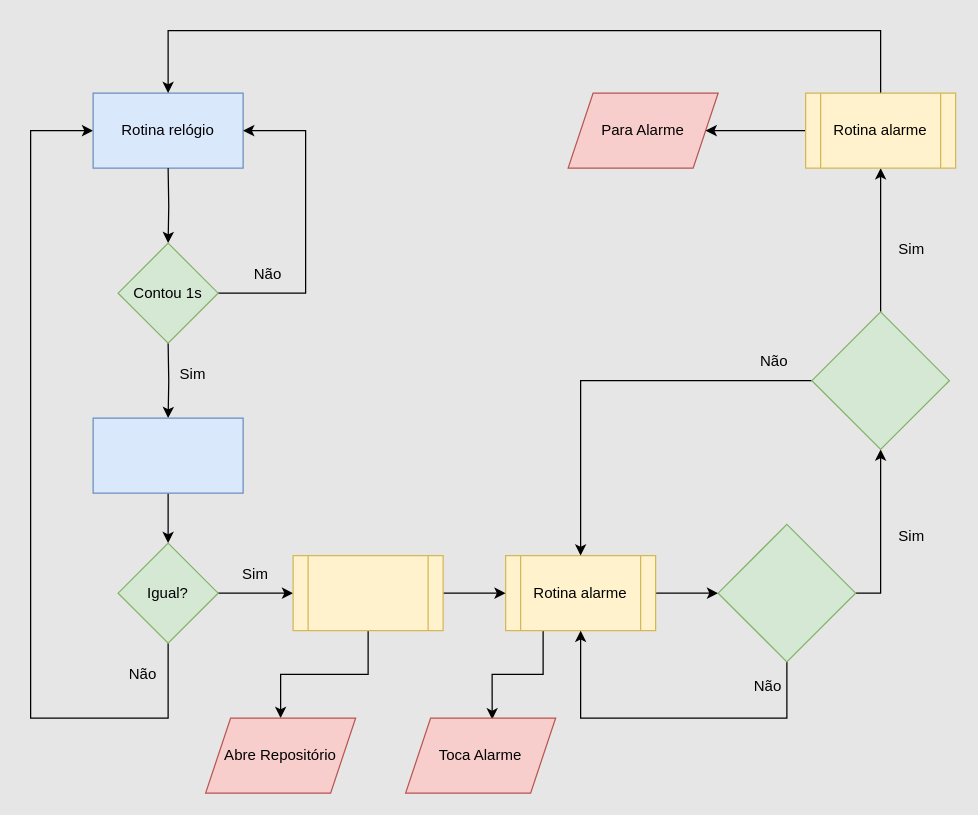
Image size: 978x815. Some labels were removed from this diagram. The box of each missing label's shape, as (x1, y1, x2, y2) in pixels:
Apertaram botão interface: (717, 523, 856, 662)
Compara horário e dia atual com valores na memória.: (92, 417, 243, 493)
Fecharam repositório: (811, 311, 949, 449)
rotina repositório: (292, 554, 443, 631)
